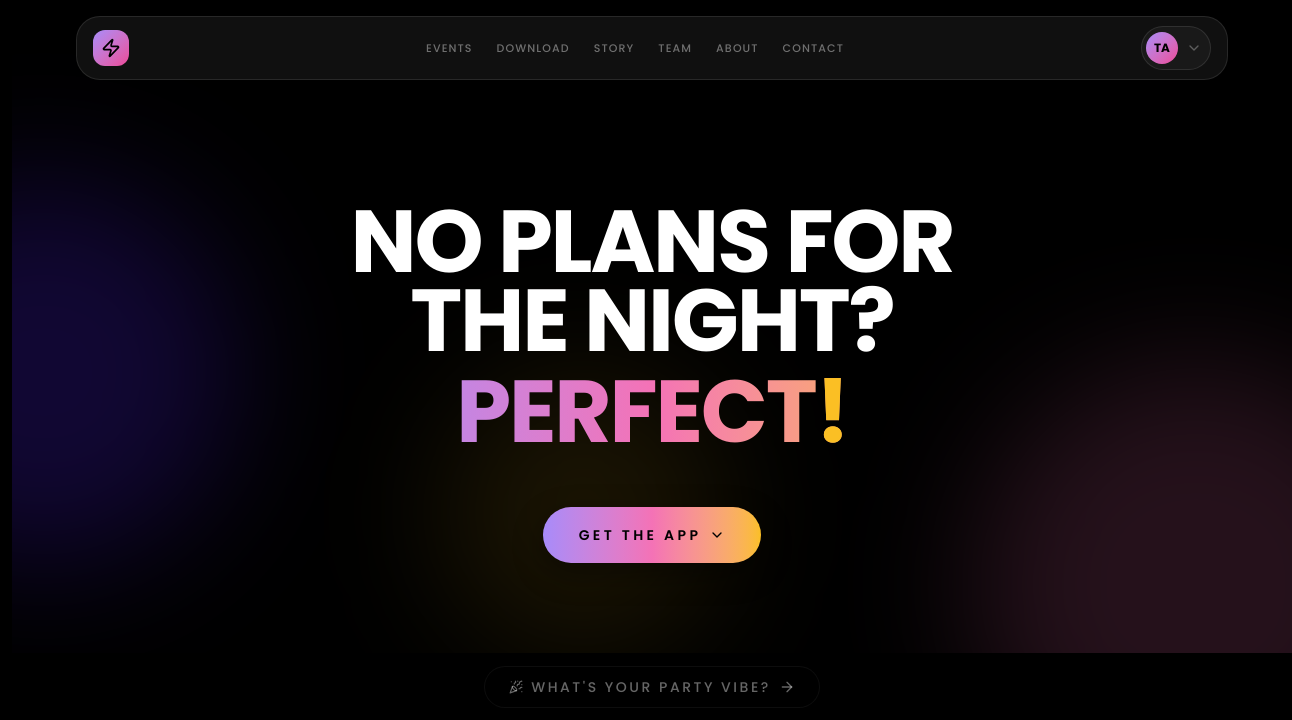
it: HomePage › opens the user menu and navigates to the profile page
The width and height of the screenshot is (1292, 720).
Click the button with aria-label "Open account menu".
click(1176, 48)  # box [1141,26,1211,70]
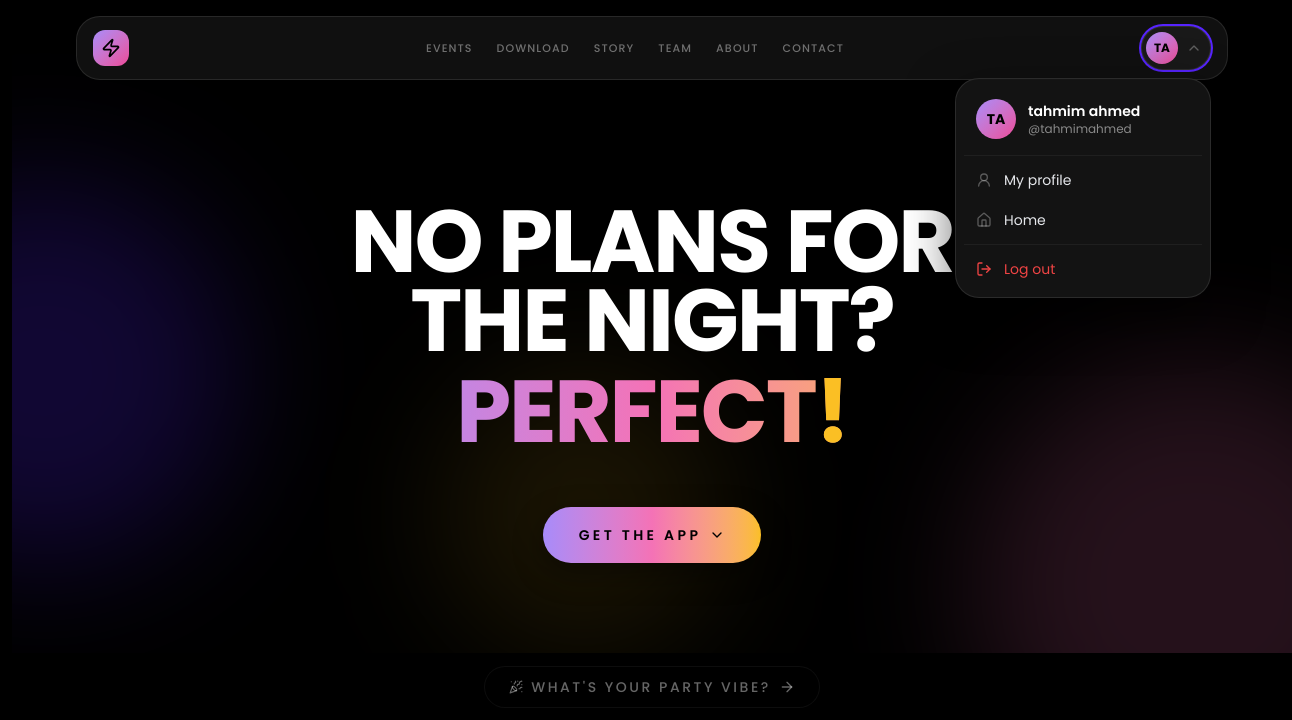
Click the button "My profile".
click(1083, 180)  # box [964,160,1202,200]
(page scrolled)
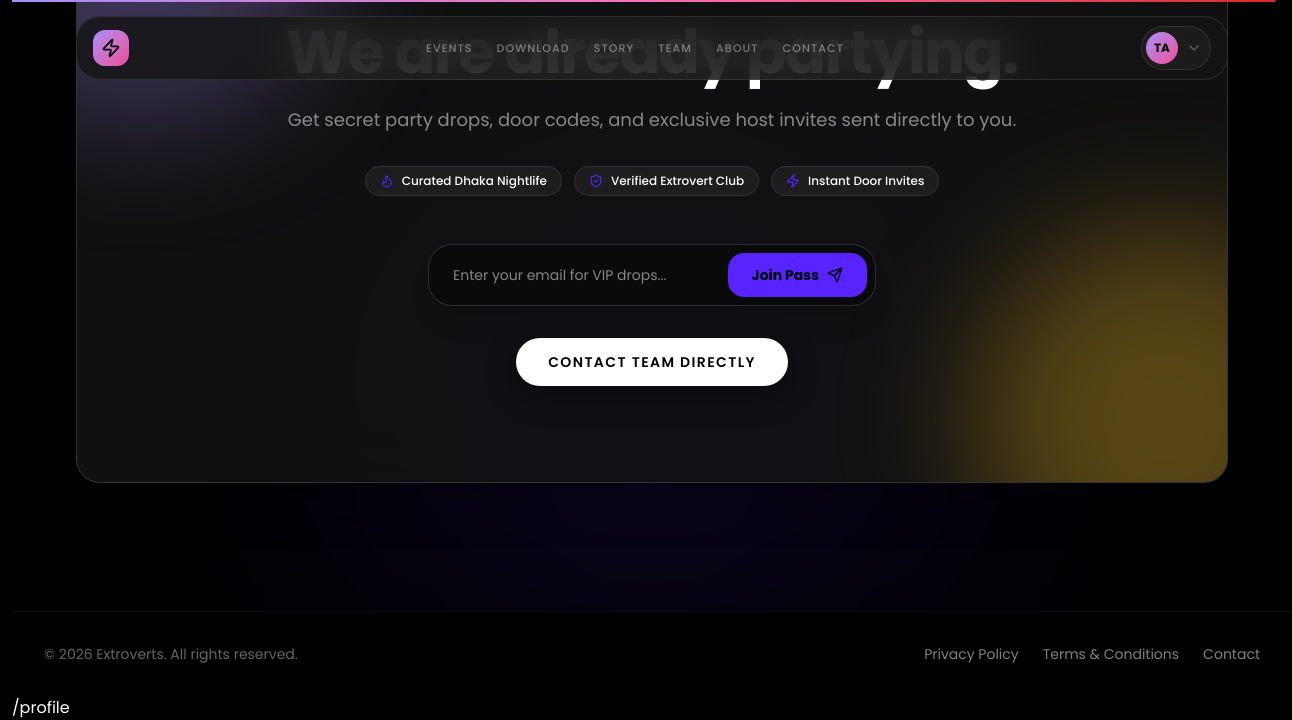
Expected: the text with test id "location" reads "/profile", [12,696,70,719]
